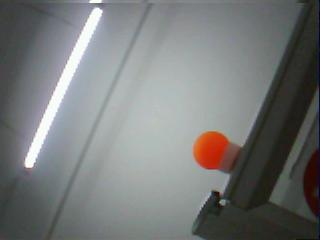oball: (193, 131, 229, 170)
